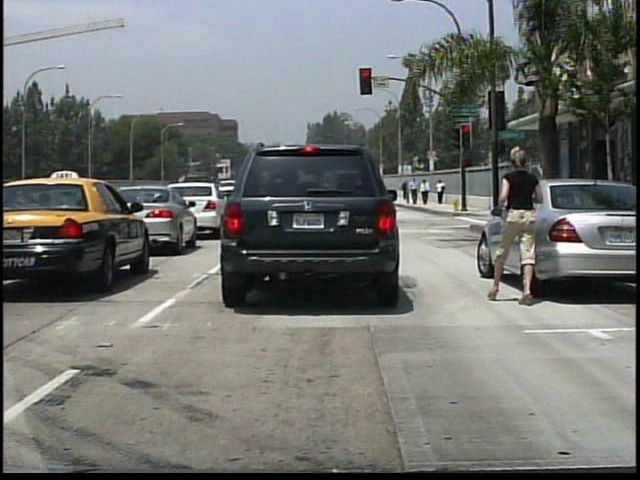person: (499, 133, 549, 311), (435, 178, 446, 205), (411, 178, 421, 206), (421, 178, 431, 205), (402, 179, 411, 201)
